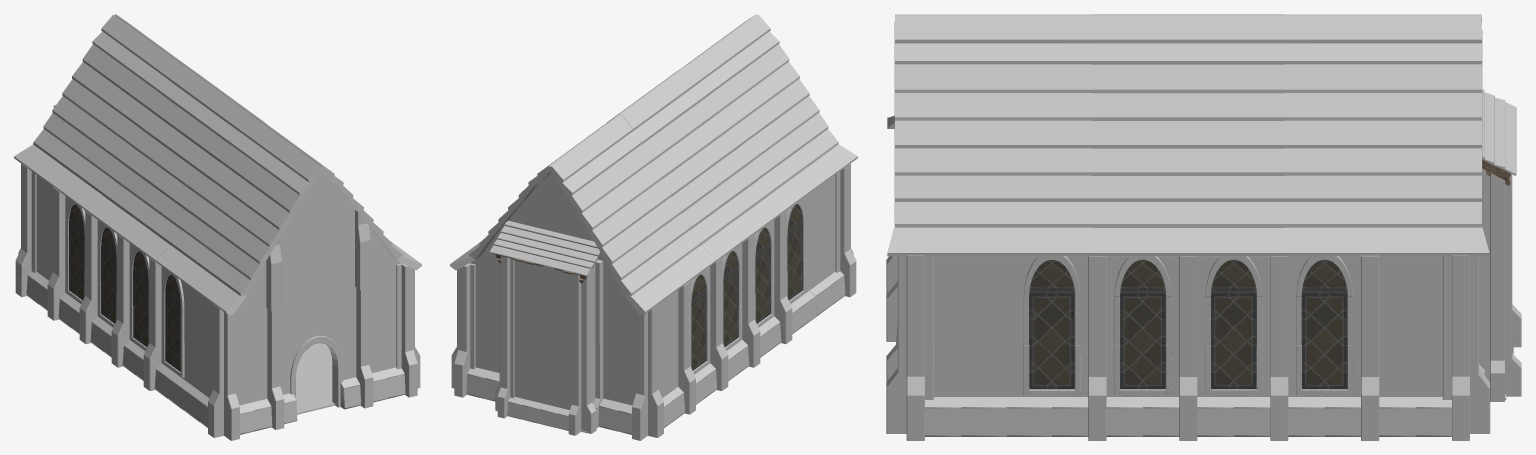
Rendered from Chapel_1B1.fbx.
The picture shows the model from 3 angles, left to right: view 1: azimuth 30°, elevation 25°; view 2: azimuth 150°, elevation 25°; view 3: azimuth 270°, elevation 25°; orthographic projection. The views are drawn at different scales.
Visible parts, largest first — view 1: Chapel_1B1, Chapel_Windows_B; view 2: Chapel_1B1, Chapel_Windows_B; view 3: Chapel_1B1, Chapel_Windows_B.
Part boxes in pixels (<box>): Chapel_1B1: <box>14,14,421,440</box>; Chapel_Windows_B: <box>69,204,180,371</box>; Chapel_1B1: <box>450,14,857,440</box>; Chapel_Windows_B: <box>691,204,802,370</box>; Chapel_1B1: <box>886,14,1521,440</box>; Chapel_Windows_B: <box>1029,260,1347,389</box>.
Bounding box in the file's own units: 1488 × 1725 × 2797.
